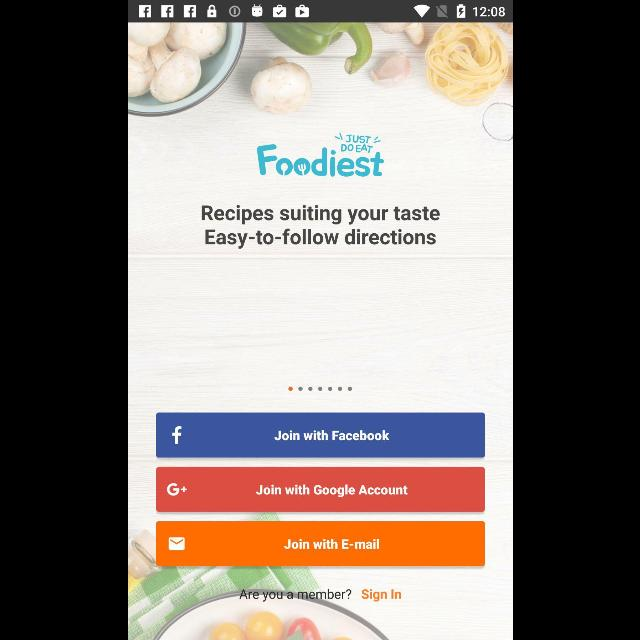backgroundimage: (128, 22, 512, 640)
image: (256, 134, 384, 178)
pageindicator: (288, 386, 352, 392)
text: (200, 205, 440, 249), (238, 588, 352, 602), (360, 588, 400, 602)
textbutton: (156, 412, 484, 458), (156, 466, 484, 512), (156, 522, 484, 566)
uppertaskbar: (128, 1, 512, 23)
